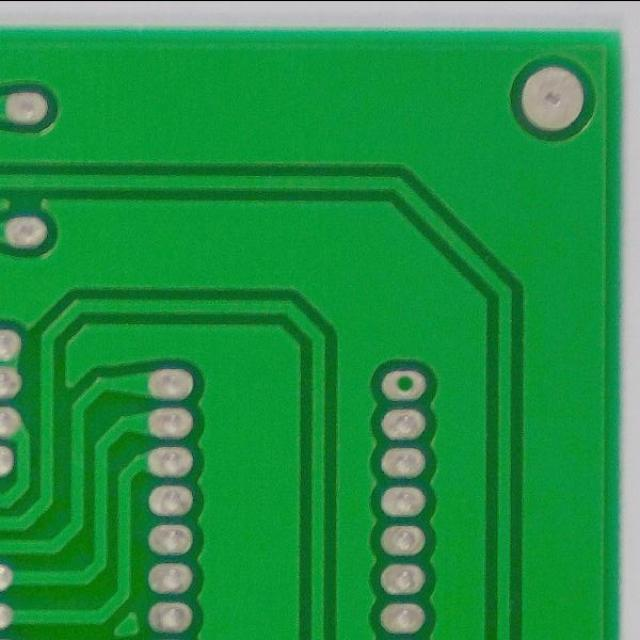Missing_Hole: (377, 367, 432, 404)
